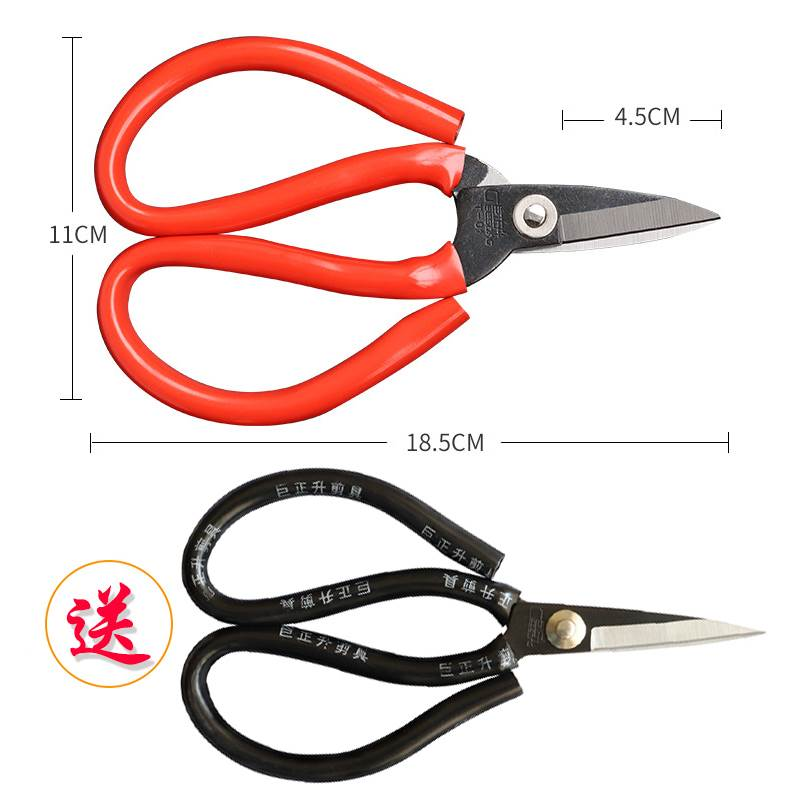scissors: (89, 32, 738, 431), (175, 458, 791, 790)
